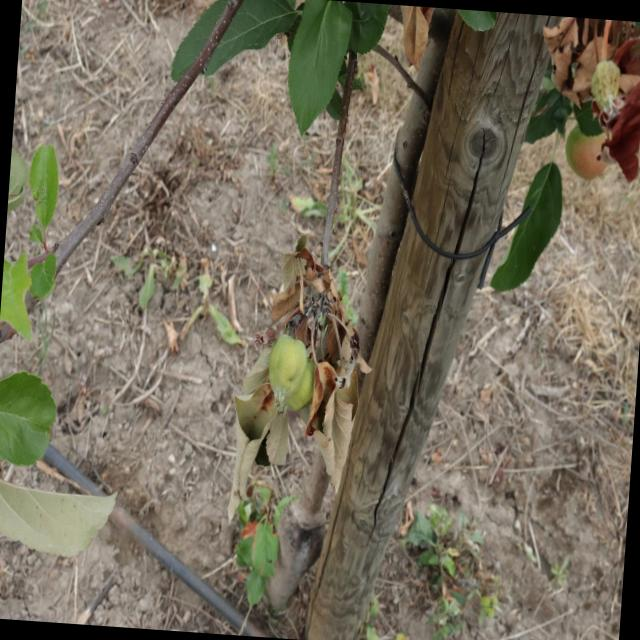-FireBlight-: (285, 248, 378, 468), (531, 15, 640, 162)
